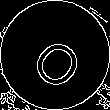O_NE: (22, 22, 88, 88)
